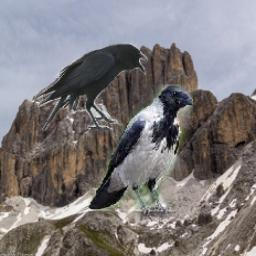Crow: (89, 85, 194, 222), (35, 44, 148, 132)
